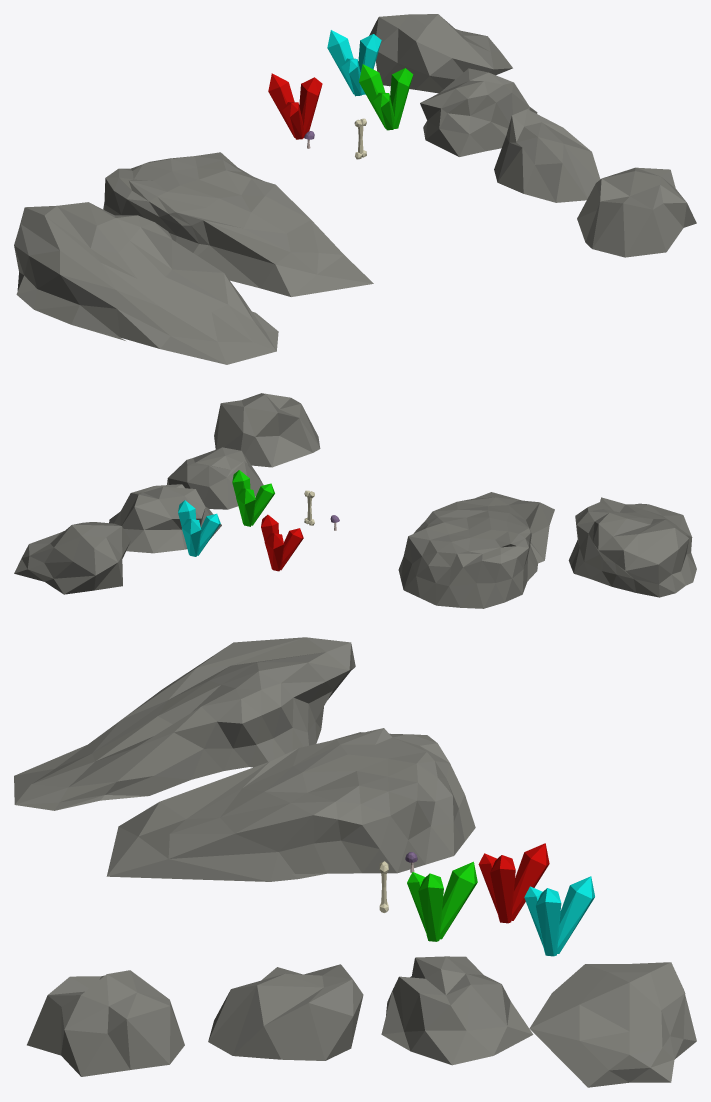
Rendered from Dec.fbx.
The picture shows the model from 3 angles, top to bottom: view 1: azimuth 30°, elevation 25°; view 2: azimuth 150°, elevation 25°; view 3: azimuth 270°, elevation 25°; orthographic projection. The views are drawn at different scales.
Visible parts, largest first — view 1: Icosphere.008, Icosphere.007, Icosphere.006, Icosphere.001, Icosphere.002, Icosphere, Icosphere.004, Icosphere.005, Icosphere.003; view 2: Icosphere.007, Icosphere.008, Icosphere.001, Icosphere.006, Icosphere, Icosphere.002, Icosphere.005, Icosphere.004, Icosphere.003; view 3: Icosphere.007, Icosphere.008, Icosphere.001, Icosphere.006, Icosphere.002, Icosphere, Icosphere.003, Icosphere.004, Icosphere.005.
Part boxes in pixels (box(x1,y1,x2,y2)): Icosphere.008: box(14, 202, 278, 364); Icosphere.007: box(103, 152, 373, 296); Icosphere.006: box(577, 167, 696, 257); Icosphere.001: box(369, 14, 512, 93); Icosphere.002: box(494, 109, 600, 202); Icosphere: box(420, 68, 537, 156); Icosphere.004: box(359, 64, 413, 130); Icosphere.005: box(268, 73, 322, 139); Icosphere.003: box(327, 30, 381, 96); Icosphere.007: box(398, 492, 554, 608); Icosphere.008: box(568, 497, 696, 597); Icosphere.001: box(14, 522, 130, 594); Icosphere.006: box(214, 393, 320, 467); Icosphere: box(109, 484, 221, 553); Icosphere.002: box(167, 447, 263, 509); Icosphere.005: box(261, 514, 303, 571); Icosphere.004: box(232, 470, 274, 526); Icosphere.003: box(178, 500, 220, 556); Icosphere.007: box(106, 728, 475, 881); Icosphere.008: box(14, 637, 355, 810); Icosphere.001: box(529, 962, 696, 1087); Icosphere.006: box(27, 970, 184, 1076); Icosphere.002: box(208, 964, 363, 1060); Icosphere: box(381, 956, 533, 1065); Icosphere.003: box(524, 876, 594, 956); Icosphere.004: box(407, 861, 477, 941); Icosphere.005: box(478, 843, 549, 923).
Size of the model in its own units: 1131 by 158 by 862.
